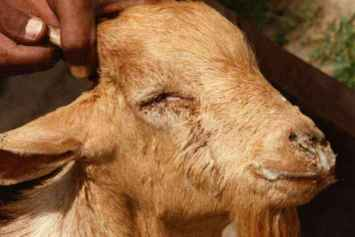ppr: (263, 131, 337, 204)
